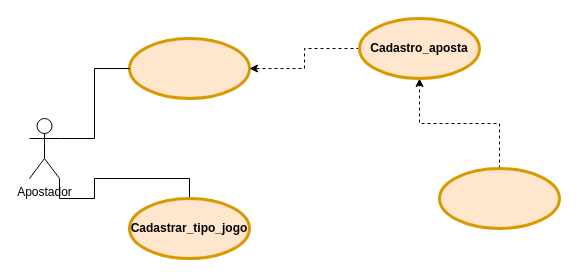
The diagram is 578 pixels wide and 277 high, and some of its shapes have lost their labels. The centre of each missing label's shape, as x and y in pixels:
cadastro_jogo: (x=189, y=68)
Registrar_resultato: (x=499, y=198)
